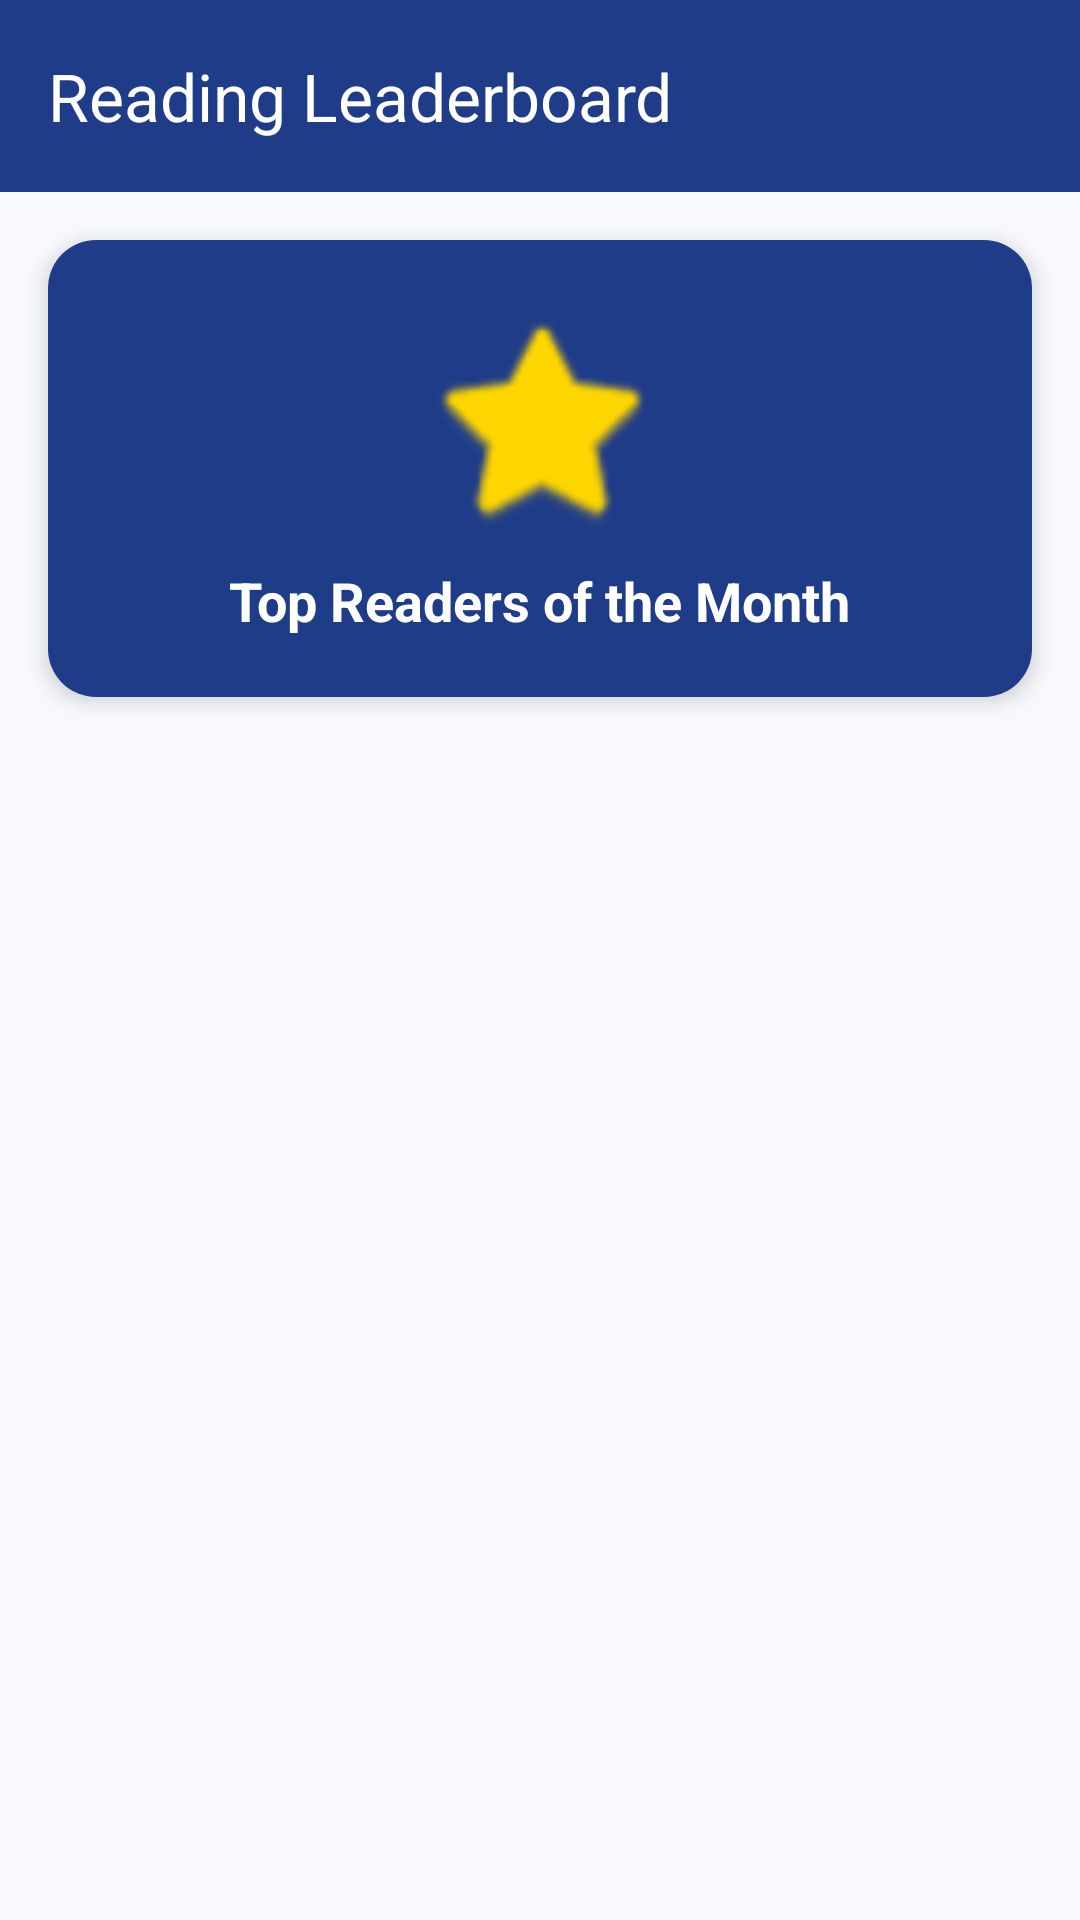

Screen size 1080px×1920px. Icon name, then its box in pixels as bbox=[x1, y1, x2, y2]:
star on: bbox=[442, 324, 642, 519]
